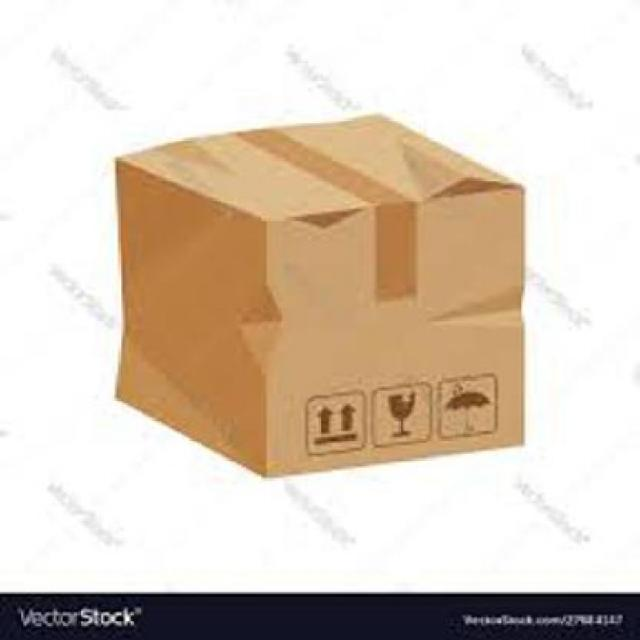defect: (104, 105, 534, 486)
